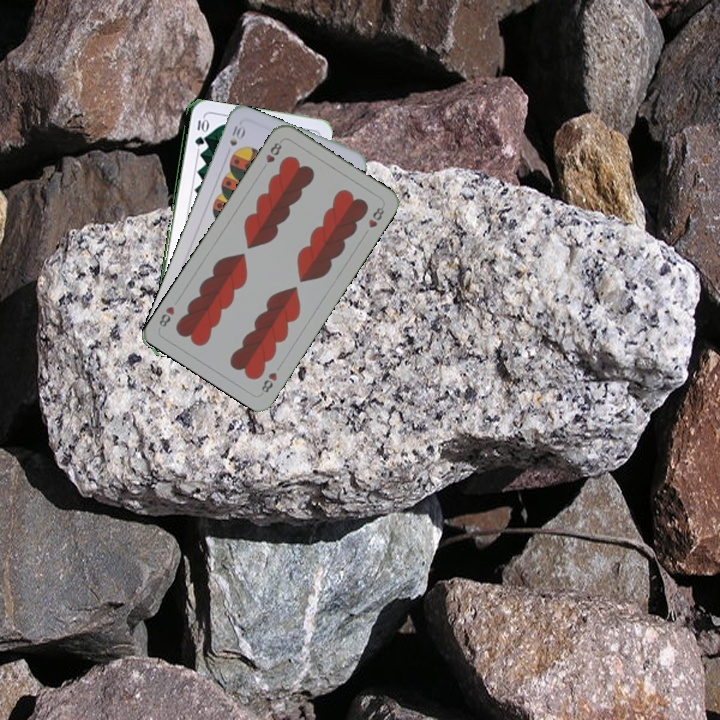G10: (191, 114, 208, 149)
H8: (257, 368, 280, 397), (262, 138, 284, 166)
S10: (225, 121, 247, 149)
